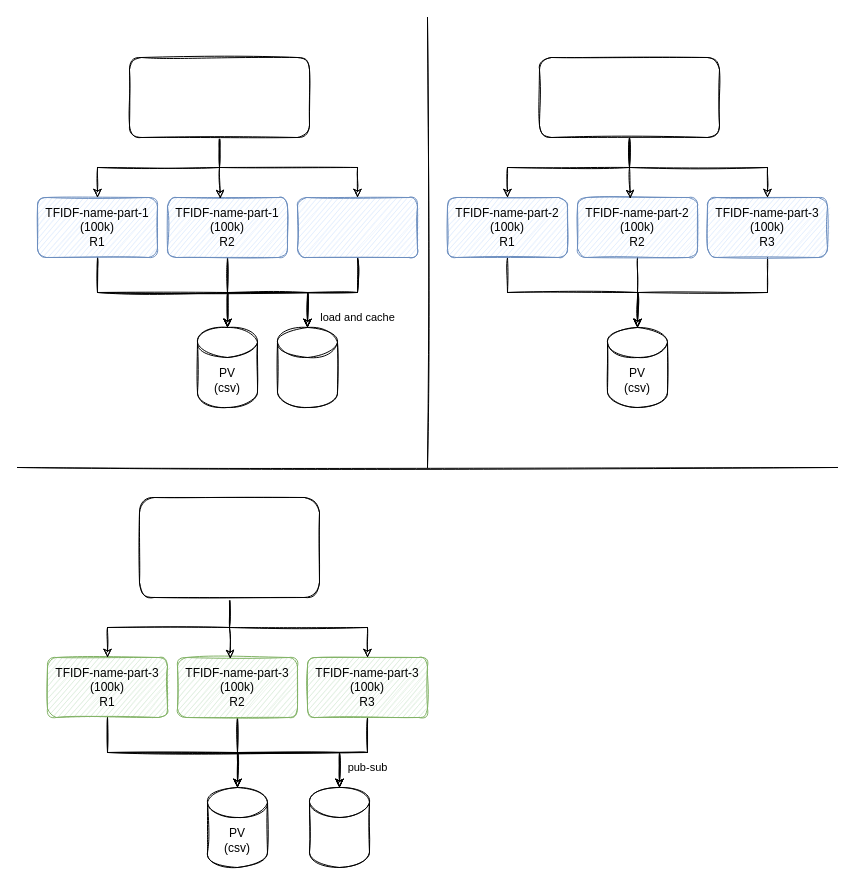
This 856x885 diagram has some shape labels left out. The shapes that lost their labels are listed below. From the top down, each one's centre as x and y in pixels, then its label:
point (219, 97): Deployment / Service TFIDF-name-part-1 replica=3 ENV: record = 1 - 100,000
point (629, 97): Deployment / Service TFIDF-name-part-2 replica=3 ENV: record = 100,001 - 200,000
point (357, 227): TFIDF-name-part-1 (100k) R3
point (307, 367): Database
point (229, 547): Deployment / Service TFIDF-name-part-3 (young) replica=3
point (339, 827): Redis
